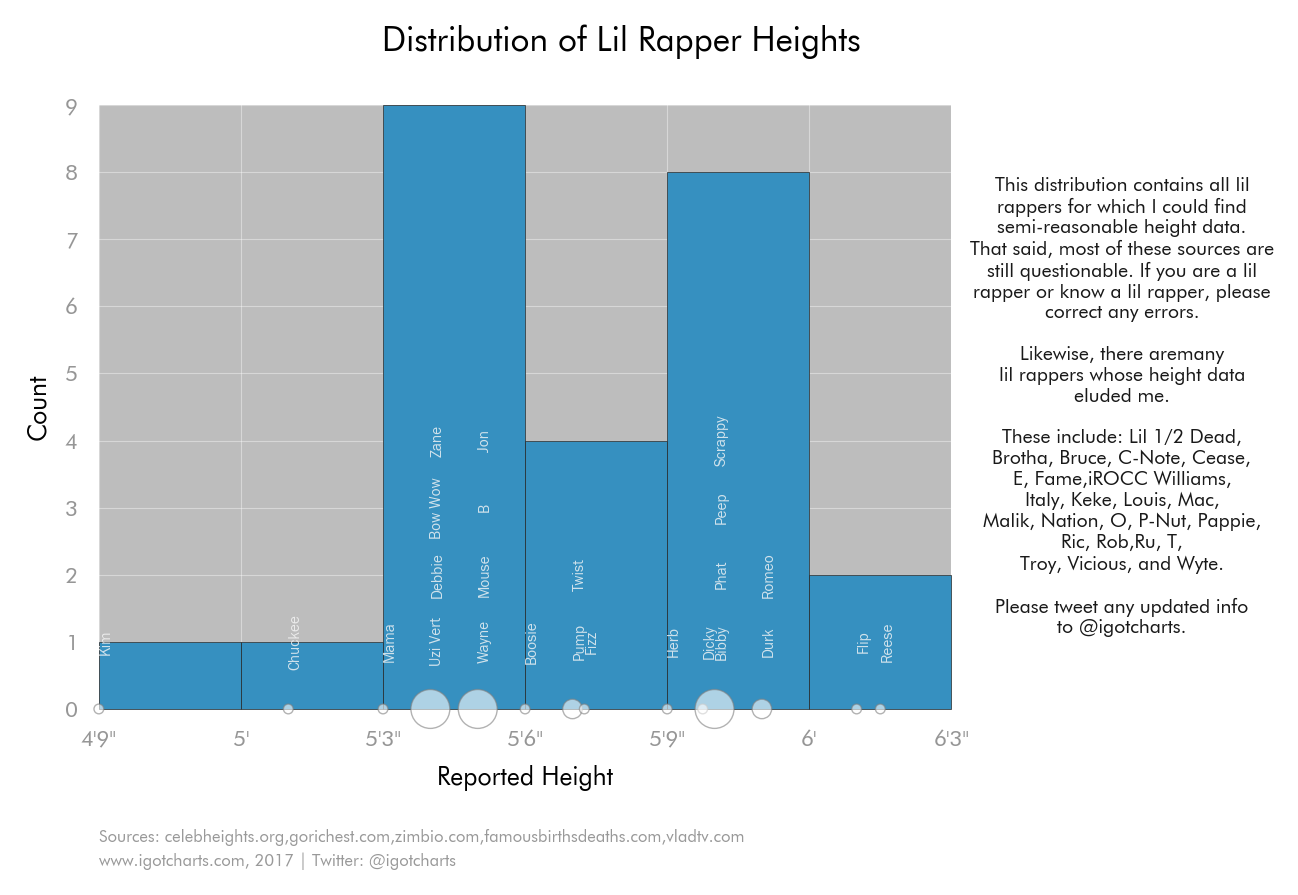

The page's visual inventory and layout, read from the dashboard file:
{"tool":"tableau","page":{"name":"Dashboard 1","canvas":[1000,700],"ordinal":0},"visuals":[{"type":"worksheet","title":"Sheet 1","mark":"Shape","rows":["Function"],"cols":["Chart Type"],"box":[7,10,934,584]},{"type":"worksheet","title":"column totals","mark":"Automatic","cols":["Chart Type"],"box":[166,608,777,31]}]}

Visuals, with their boxes in screenshot pixels (x1, y1, x2, y2), scaled from the page's 1000x700 canvas onto the 1298x895 screenshot:
"Sheet 1" worksheet (Shape marks): [9, 13, 1221, 759]
"column totals" worksheet: [215, 777, 1224, 817]
